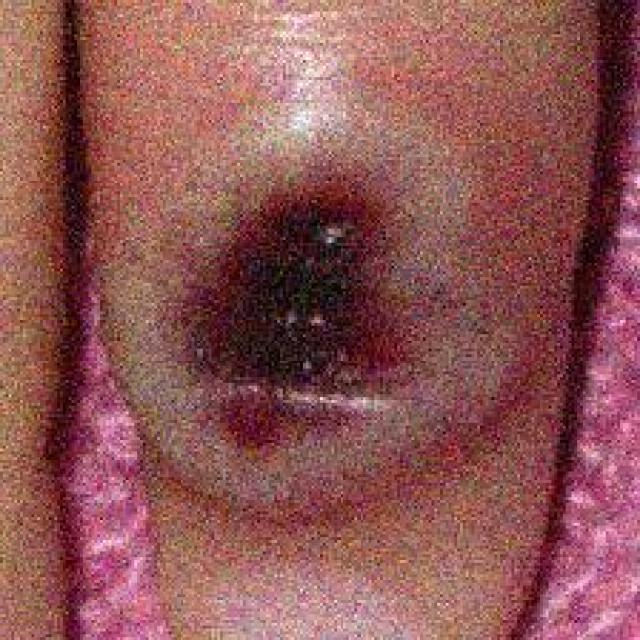monkeypox: (86, 2, 601, 602)
